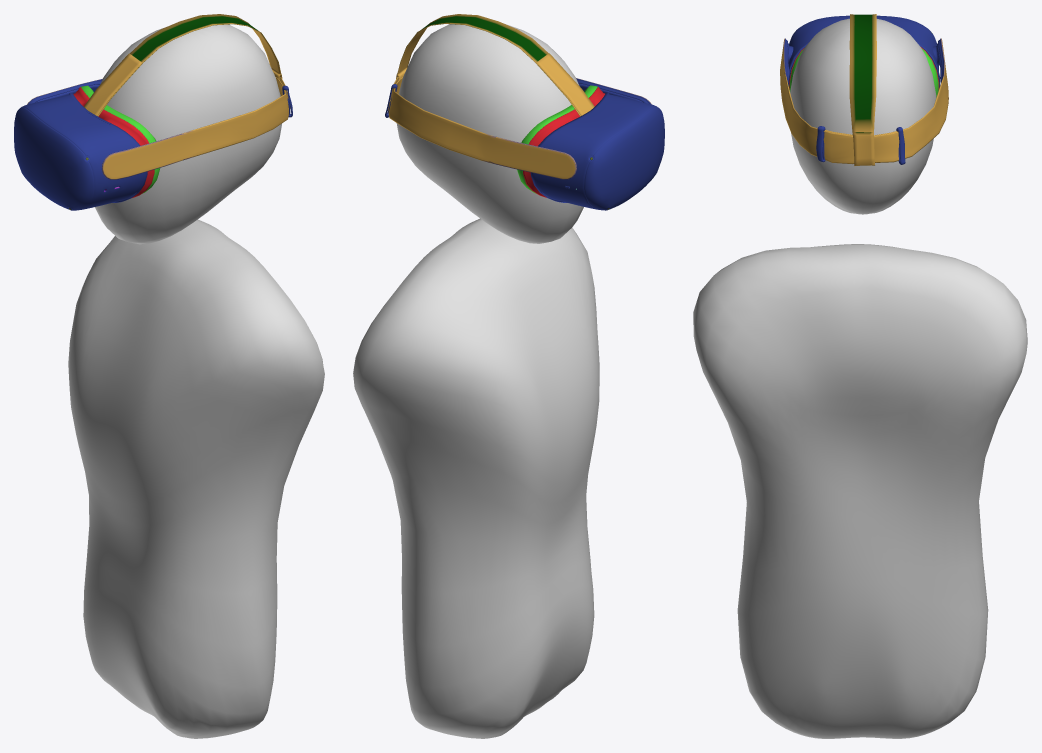
File: OculusNoVRInteriorV21.fbx
3 renders of one model, left to right at view 1: azimuth 30°, elevation 25°; view 2: azimuth 150°, elevation 25°; view 3: azimuth 270°, elevation 25°, orthographic.
Visible parts, largest first — view 1: Oculus Headset.001; view 2: Oculus Headset.001; view 3: Oculus Headset.001.
Boxes of the visible parts, left/top/right/bottom form: Oculus Headset.001: left=14, top=14, right=324, bottom=738; Oculus Headset.001: left=353, top=14, right=664, bottom=738; Oculus Headset.001: left=693, top=14, right=1027, bottom=738.
Bounding box in the file's own units: 46.9 × 129 × 55.22.
